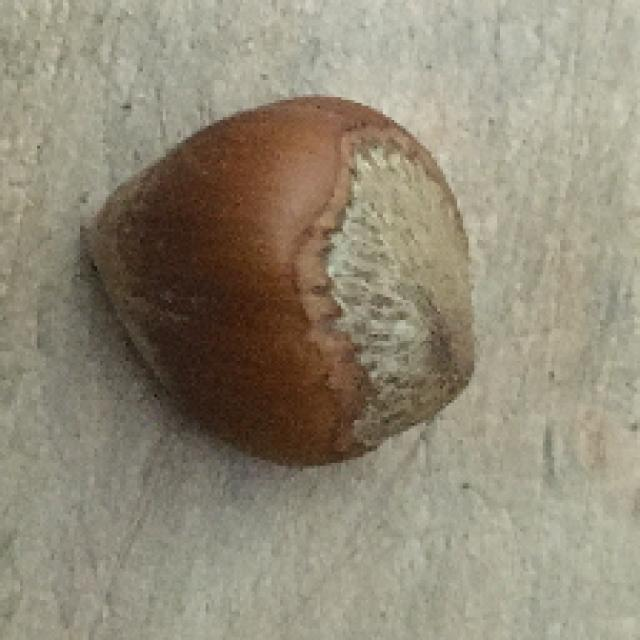qualityHazelnut: (72, 86, 494, 472)
